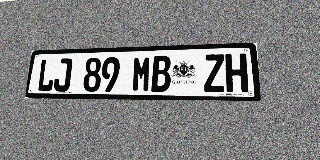8: (83, 57, 102, 92)
9: (100, 57, 120, 92)
B: (151, 55, 171, 92)
H: (225, 53, 248, 92)
J: (53, 58, 73, 92)
L: (36, 59, 56, 92)
M: (131, 56, 151, 92)
Z: (204, 54, 225, 92)
